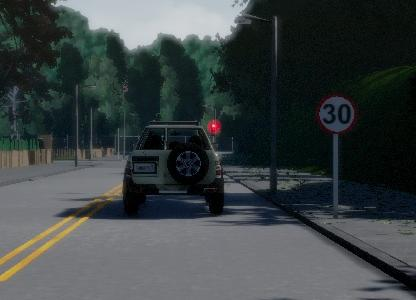Speed_30: (313, 90, 361, 139)
